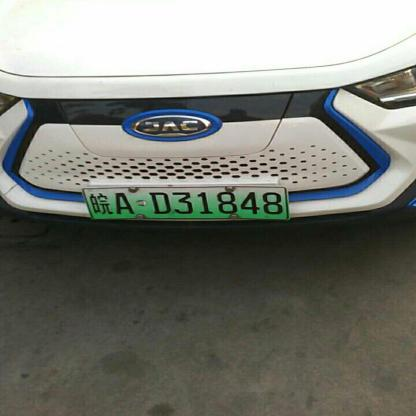lp: (84, 186, 288, 220)
